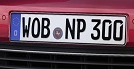0: (113, 19, 124, 41), (102, 19, 112, 41)
3: (90, 18, 102, 40)
B: (41, 16, 52, 38)
N: (65, 17, 75, 39)
O: (31, 17, 41, 38)
P: (76, 17, 87, 40)
W: (22, 16, 31, 38)
